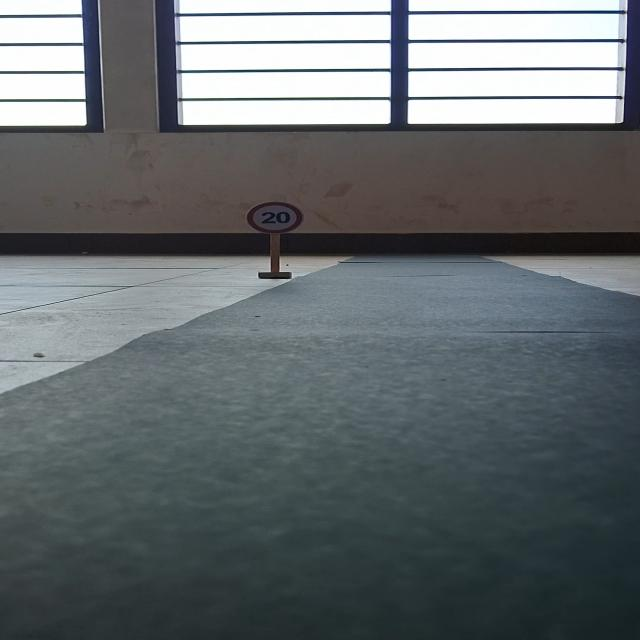Speed20: (239, 197, 312, 236)
